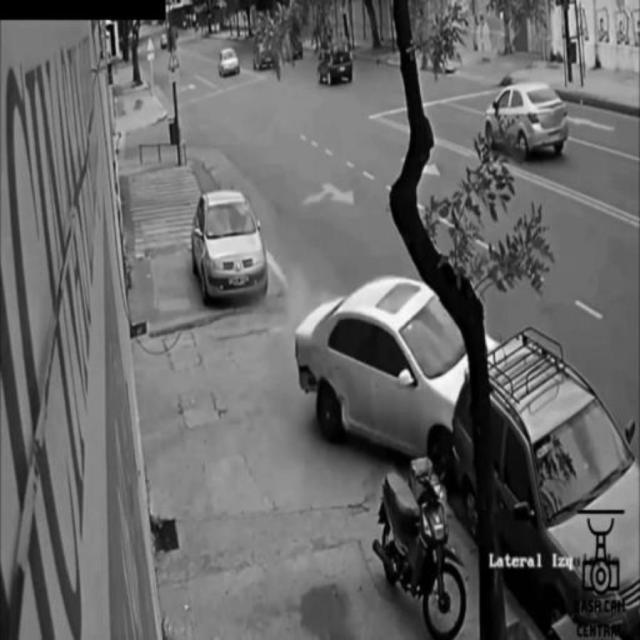accident: (294, 268, 640, 610)
vehicle: (378, 459, 466, 639), (194, 187, 265, 297), (488, 87, 570, 157)
